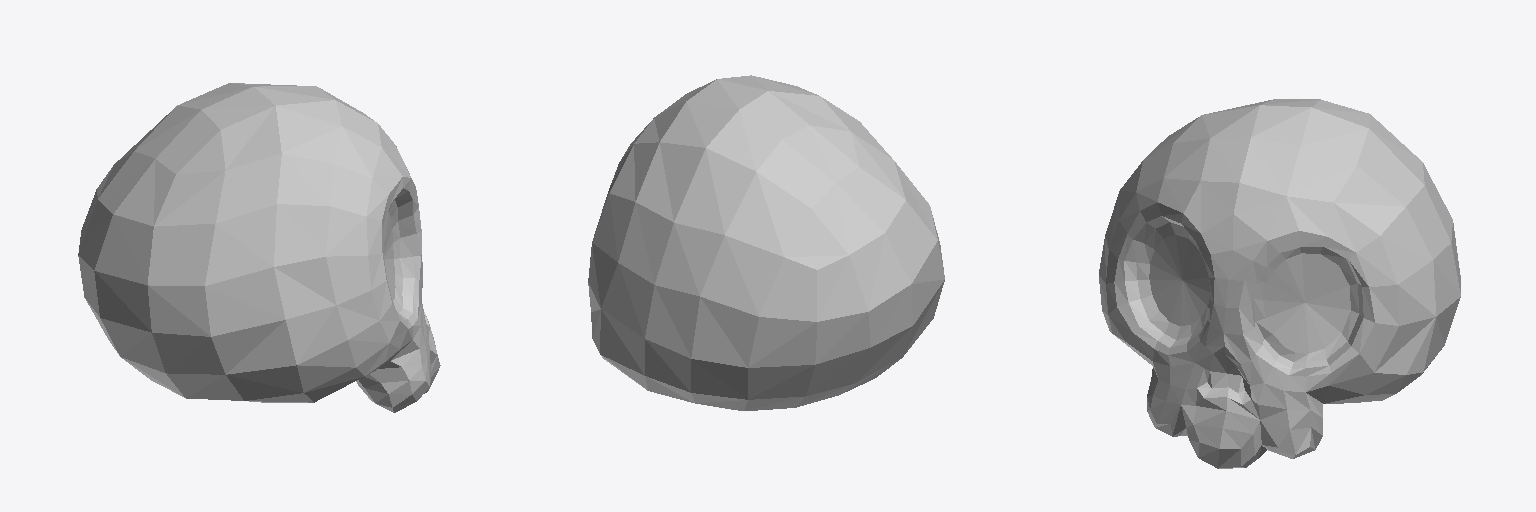
File: Skull.obj
The picture shows the model from 3 angles: view 1: azimuth 30°, elevation 25°; view 2: azimuth 150°, elevation 25°; view 3: azimuth 270°, elevation 25°; orthographic projection.
Visible parts, largest first — view 1: Skull; view 2: Skull; view 3: Skull.
Boxes of the visible parts, x1,y1,x2,y2 form: Skull: [78, 83, 440, 412]; Skull: [588, 75, 944, 410]; Skull: [1099, 99, 1460, 468].
Size of the model in its own units: 1.07 by 1.04 by 1.1.